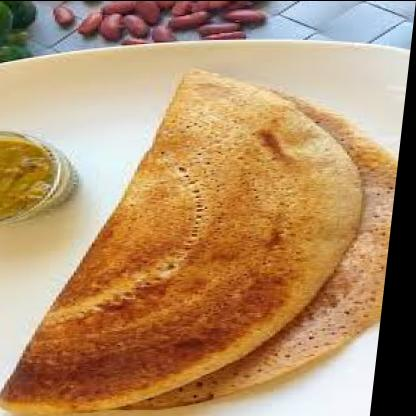dosa: (5, 68, 409, 416)
